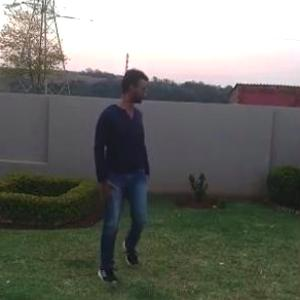follow: (89, 64, 151, 284)
